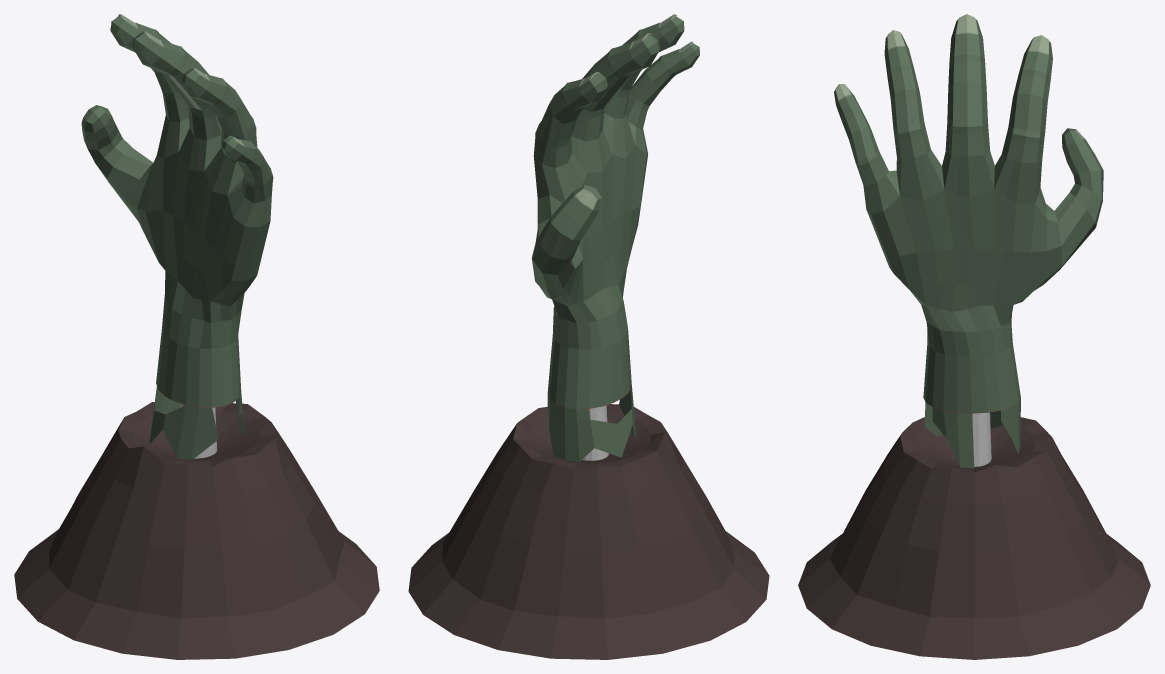
The model's file is HandOutOfGround_Dirt.fbx.
3 renders of one model, left to right at view 1: azimuth 30°, elevation 25°; view 2: azimuth 150°, elevation 25°; view 3: azimuth 270°, elevation 25°, orthographic. The views are drawn at different scales.
Parts seen in each view (by area): view 1: Hand out of ground; view 2: Hand out of ground; view 3: Hand out of ground.
Part boxes in pixels (x1,y1,x2,y2): Hand out of ground: [14, 14, 379, 659]; Hand out of ground: [408, 14, 769, 659]; Hand out of ground: [798, 14, 1150, 659].
Bounding box in the file's own units: 299 × 509 × 299.
